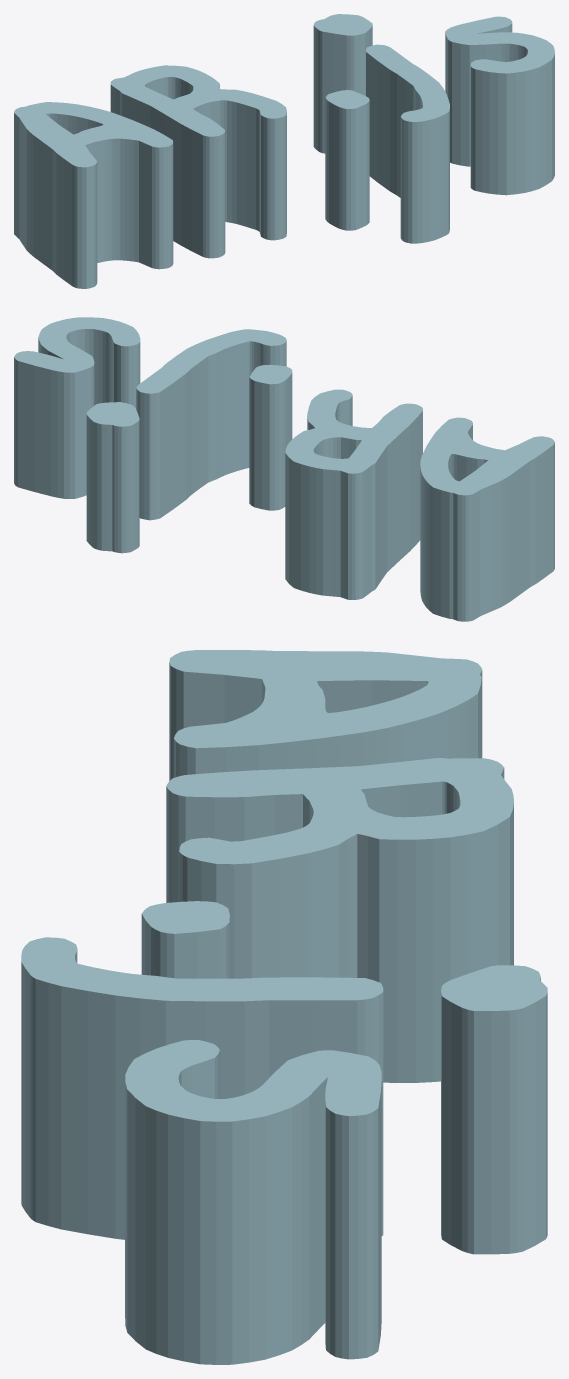
Rendered from asset.glb.
3 renders of one model, top to bottom at view 1: azimuth 30°, elevation 25°; view 2: azimuth 150°, elevation 25°; view 3: azimuth 270°, elevation 25°, orthographic. The views are drawn at different scales.
Parts seen in each view (by area): view 1: Mesh_Mesh_head_geo.001_lambert2SG.001; view 2: Mesh_Mesh_head_geo.001_lambert2SG.001; view 3: Mesh_Mesh_head_geo.001_lambert2SG.001.
Part boxes in pixels (x1,y1,x2,y2): Mesh_Mesh_head_geo.001_lambert2SG.001: (14, 14, 554, 288); Mesh_Mesh_head_geo.001_lambert2SG.001: (14, 317, 554, 621); Mesh_Mesh_head_geo.001_lambert2SG.001: (21, 650, 547, 1364).
Bounding box in the file's own units: 41.57 × 10 × 19.61.
